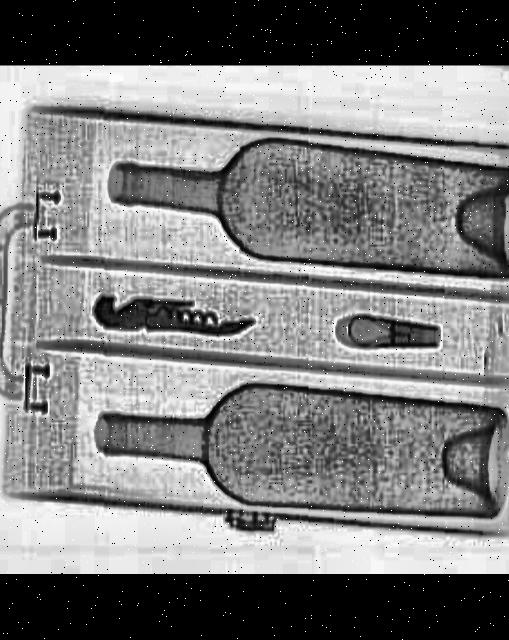Knife: (89, 295, 256, 344)
